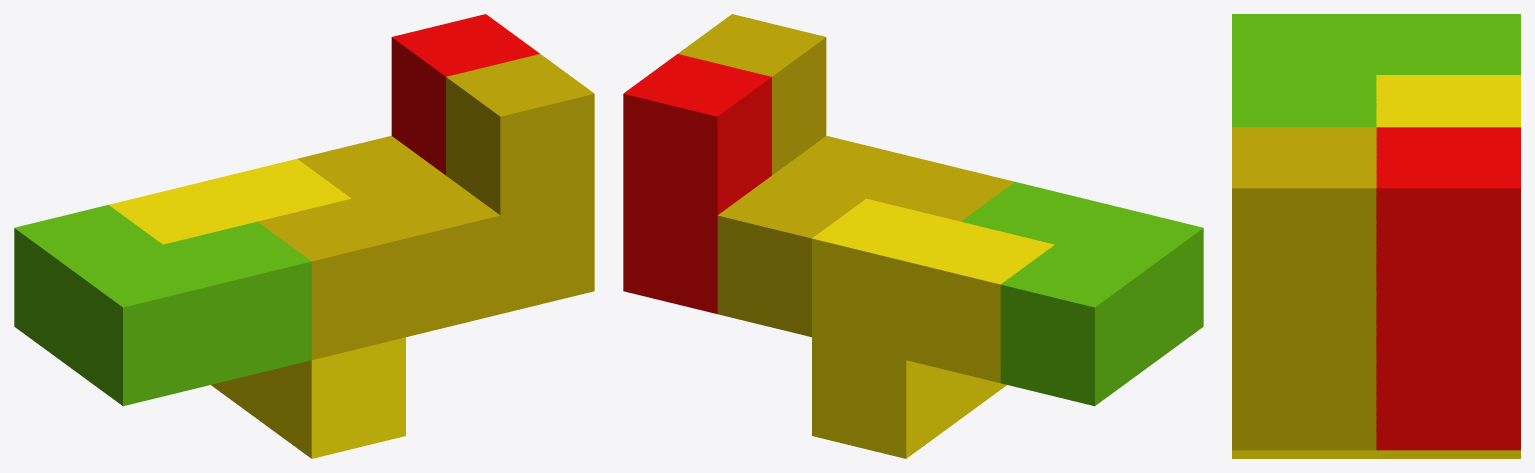
3 views of the same model, side by side, from view 1: azimuth 30°, elevation 25°; view 2: azimuth 150°, elevation 25°; view 3: azimuth 270°, elevation 25° (orthographic). The views are drawn at different scales.
Parts seen in each view (by area): view 1: mergedBlocks(Clone); view 2: mergedBlocks(Clone); view 3: mergedBlocks(Clone).
Boxes of the visible parts, x1,y1,x2,y2 form: mergedBlocks(Clone): (14,14,594,458); mergedBlocks(Clone): (623,14,1203,458); mergedBlocks(Clone): (1232,14,1520,458).
Size of the model in its own units: 5 by 3 by 2.
4 materials, 4 textured.
